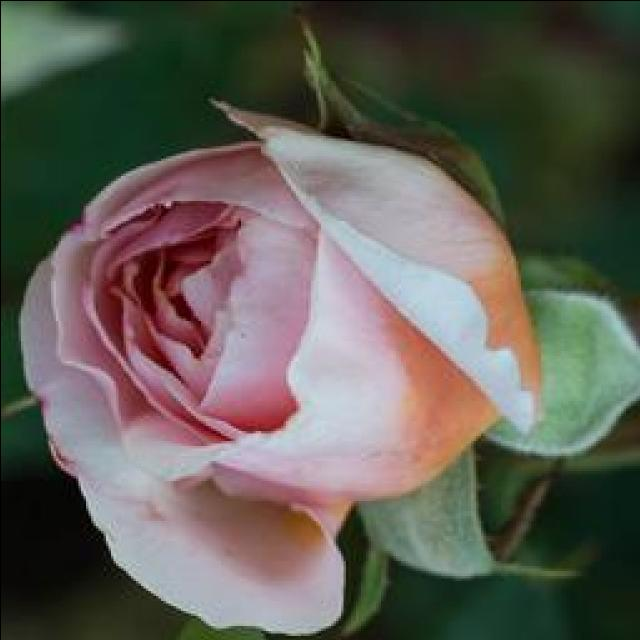rose: (0, 76, 559, 606)
